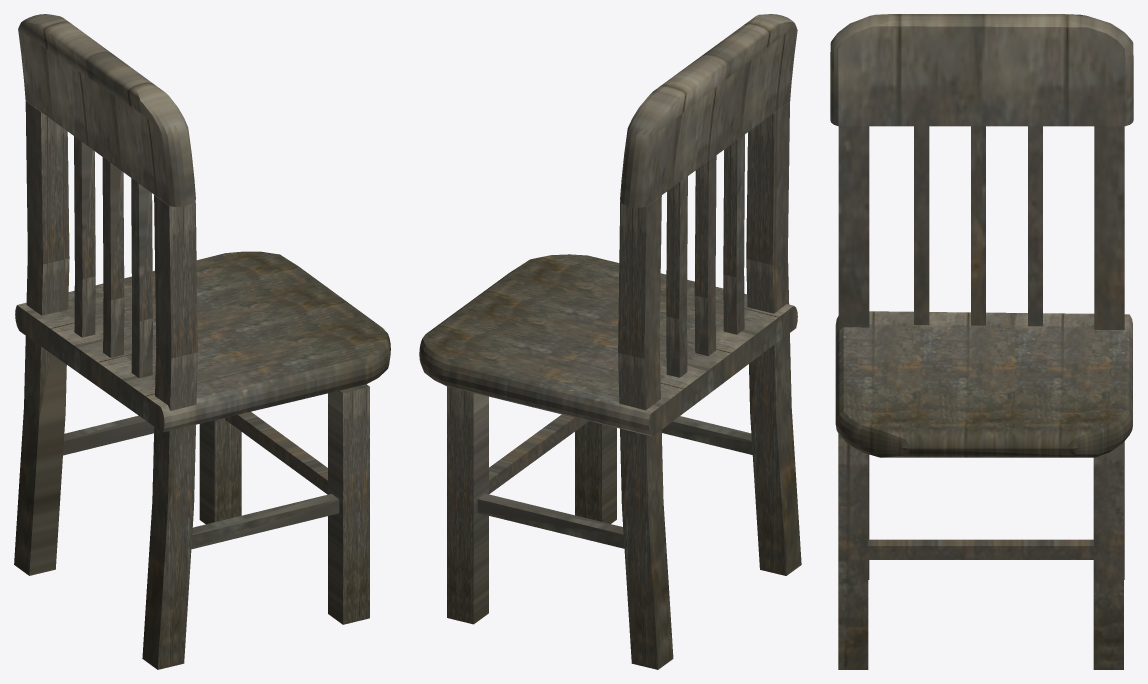
The model's file is chair.glb.
3 renders of one model, left to right at view 1: azimuth 30°, elevation 25°; view 2: azimuth 150°, elevation 25°; view 3: azimuth 270°, elevation 25°, orthographic.
Parts seen in each view (by area): view 1: chair.ms3d.mo; view 2: chair.ms3d.mo; view 3: chair.ms3d.mo.
Boxes of the visible parts, bbox=[...] form: chair.ms3d.mo: bbox=[14, 14, 390, 669]; chair.ms3d.mo: bbox=[419, 14, 801, 669]; chair.ms3d.mo: bbox=[830, 14, 1133, 669].
Size of the model in its own units: 199 by 409 by 202.
Materials: 1 (1 with a texture image).
